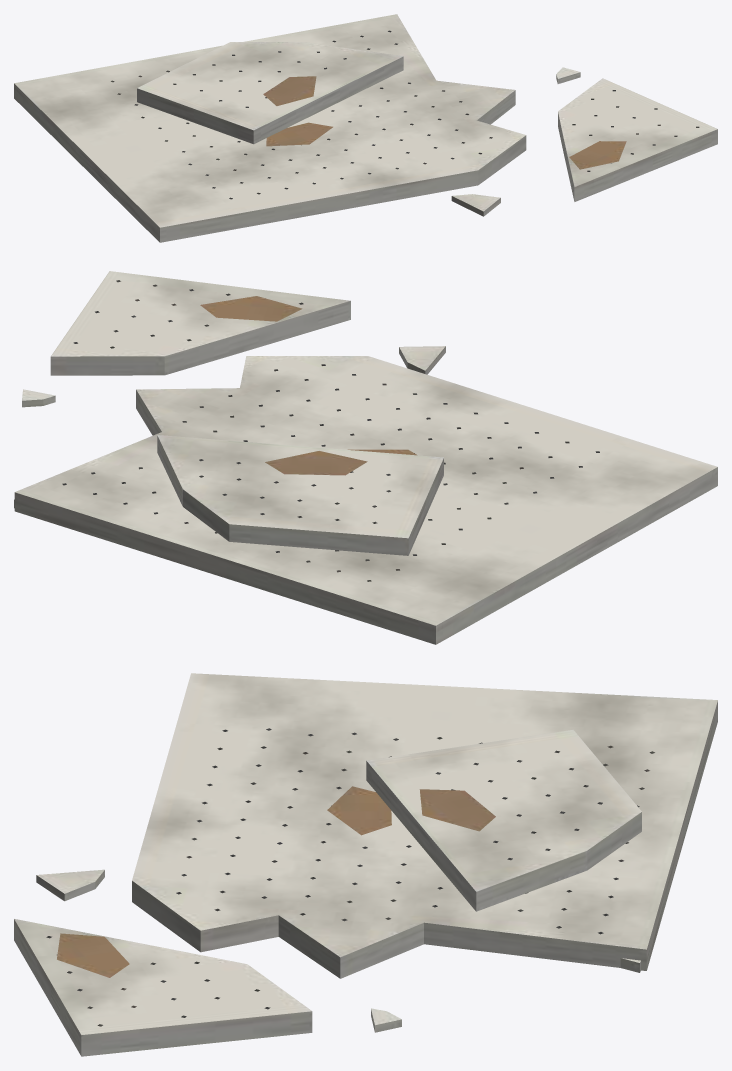
The model's file is D35_fallen_ceiling_tiles_v1.glb.
3 views of the same model, one above another, from view 1: azimuth 30°, elevation 25°; view 2: azimuth 150°, elevation 25°; view 3: azimuth 270°, elevation 25° (orthographic). The views are drawn at different scales.
Visible parts, largest first — view 1: Broken_acoustic_board; view 2: Broken_acoustic_board; view 3: Broken_acoustic_board.
Part boxes in pixels (<box>): Broken_acoustic_board: <box>14,14,717,242</box>; Broken_acoustic_board: <box>14,271,717,644</box>; Broken_acoustic_board: <box>14,673,717,1056</box>.
Size of the model in its own units: 1 by 0.055 by 0.822.
4 materials, 4 textured.
